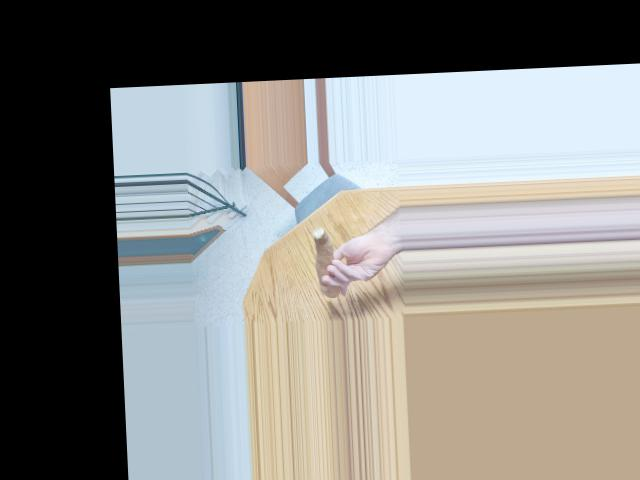sweet_potato: (312, 221, 338, 298)
